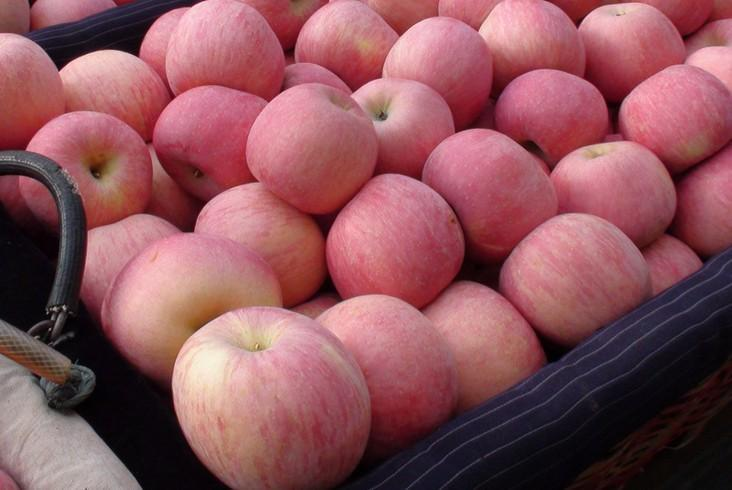apple: (169, 304, 368, 481), (96, 226, 285, 382), (313, 292, 460, 444), (502, 212, 655, 342), (323, 173, 467, 305), (429, 120, 559, 254), (244, 81, 374, 215), (422, 278, 546, 409), (26, 110, 150, 228), (153, 80, 271, 188), (159, 1, 286, 101), (498, 65, 622, 166), (553, 140, 677, 241), (618, 63, 730, 168), (55, 46, 171, 143), (379, 15, 491, 112), (350, 72, 457, 171), (576, 4, 689, 86)
